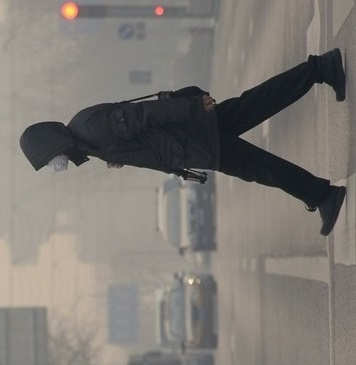person: (22, 47, 349, 240)
